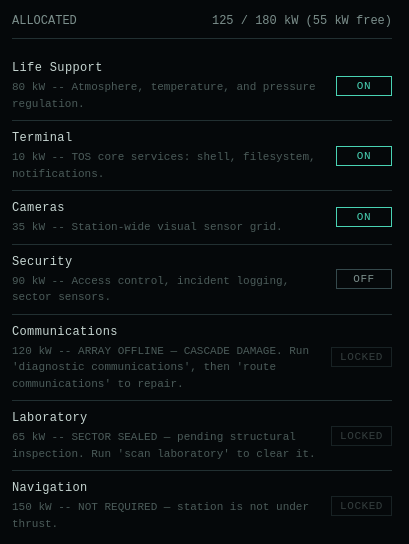
Test: PowerApp › allows enabling Security after switching Cameras off
The image size is (409, 544).
Click the button "ON" next to "Station-wide visual sensor grid." at (364, 217), box [336, 207, 392, 227]
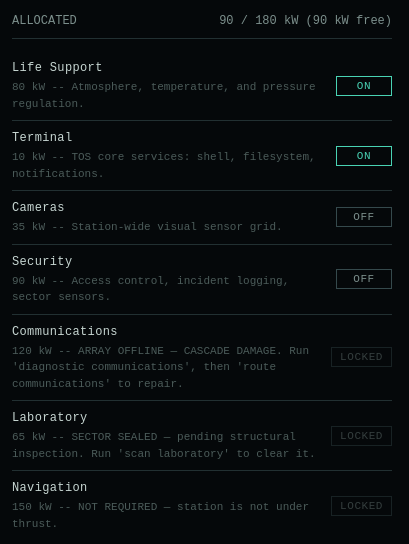
Click the 2nd button "OFF" at (364, 279), box [336, 269, 392, 289]
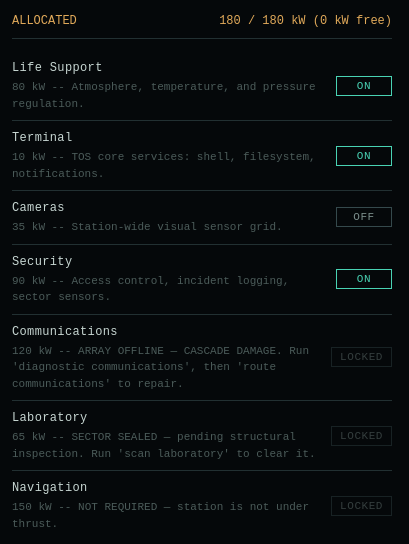
Expected: the button "ON" in the row of "90" is shown, [336, 269, 392, 289]
